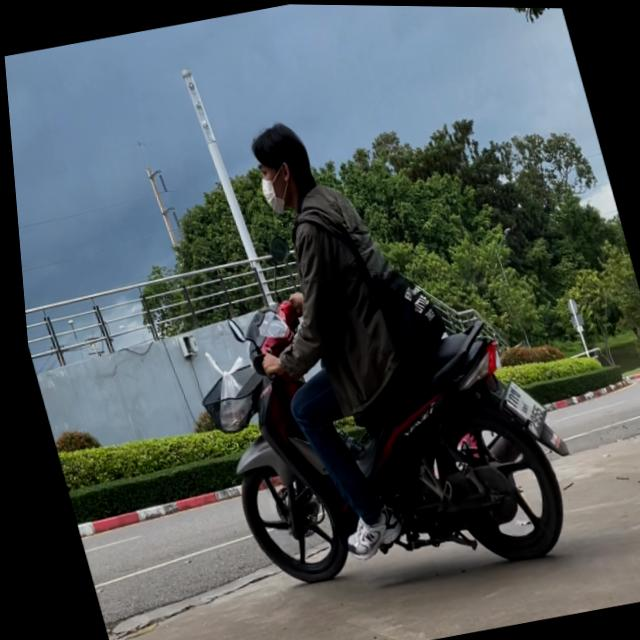seatbelt: (239, 116, 324, 221)
